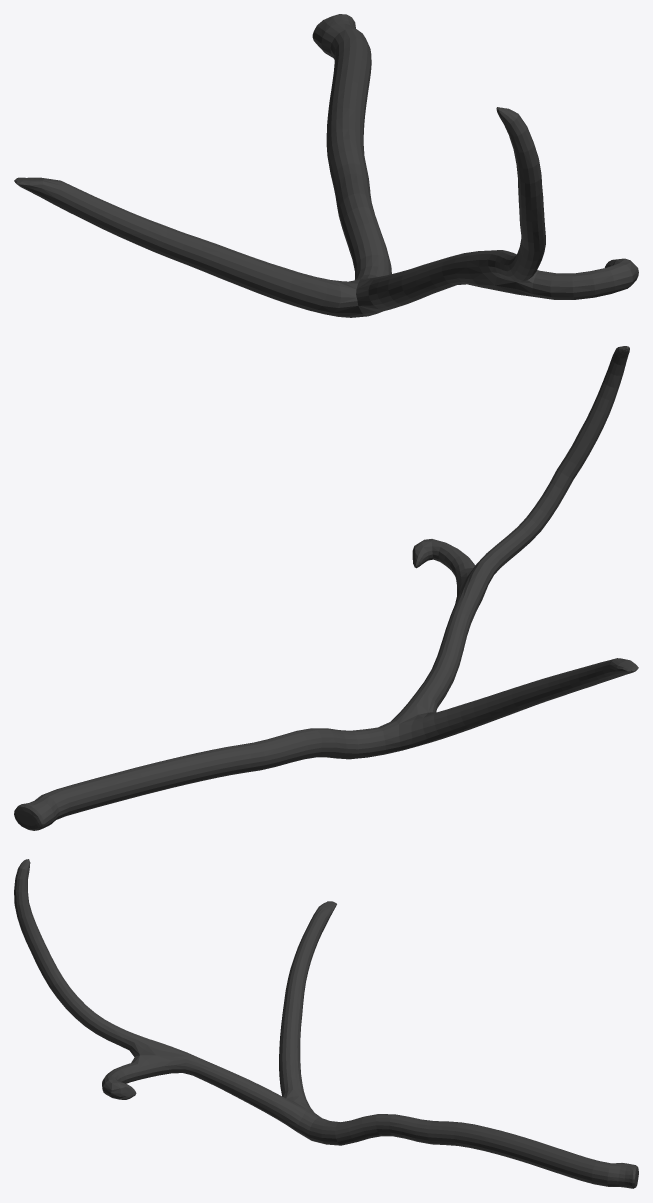
File: NERVE_sympathetic_fibres_L.glb
3 views of the same model, one above another, from view 1: azimuth 30°, elevation 25°; view 2: azimuth 150°, elevation 25°; view 3: azimuth 270°, elevation 25° (orthographic). The views are drawn at different scales.
Parts seen in each view (by area): view 1: NERVE_sympathetic_fibres_L; view 2: NERVE_sympathetic_fibres_L; view 3: NERVE_sympathetic_fibres_L.
Boxes of the visible parts, x1,y1,x2,y2 form: NERVE_sympathetic_fibres_L: (14,14,638,317); NERVE_sympathetic_fibres_L: (14,346,638,830); NERVE_sympathetic_fibres_L: (14,859,638,1188).
Bounding box in the file's own units: 1.69 × 1.1 × 2.47.
Materials: 1 (1 with a texture image).
